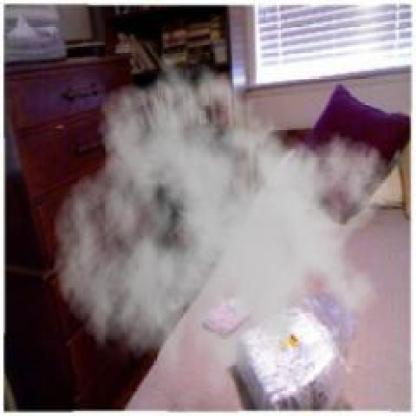Smoke: (52, 45, 392, 414)
